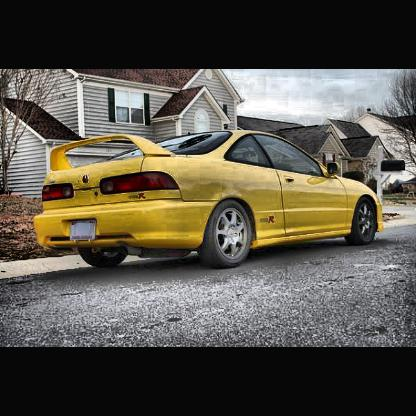Acura Integra Type R 2001: (33, 129, 387, 268)
